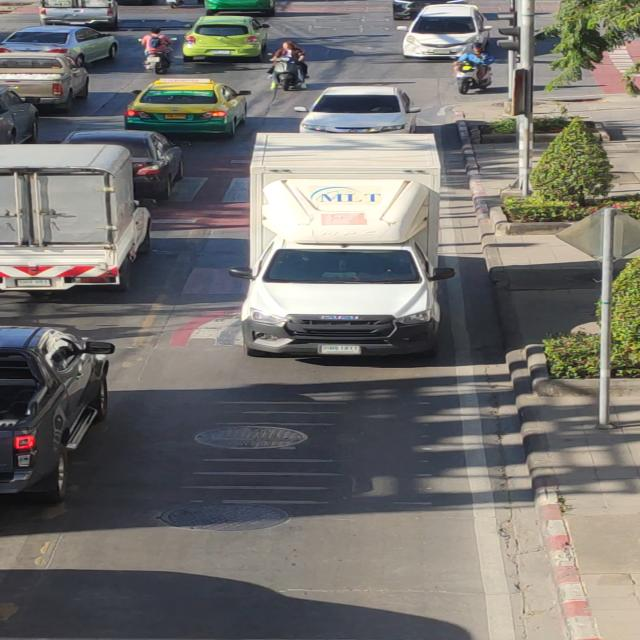car: (220, 134, 454, 359)
